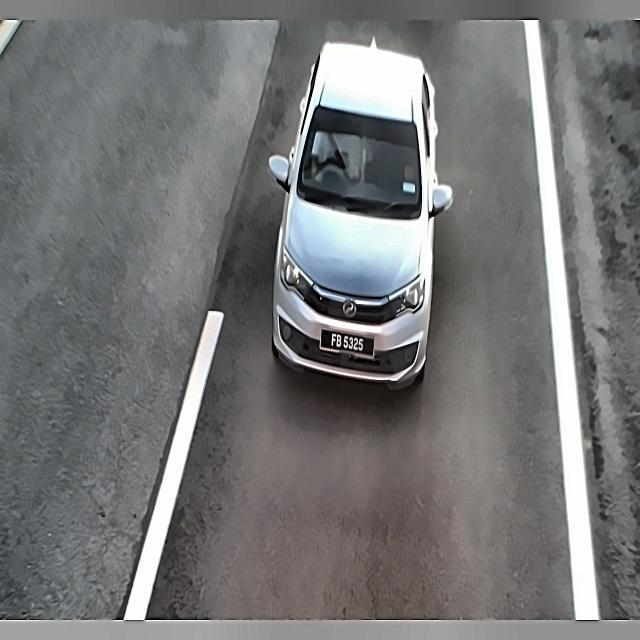car: (323, 322, 376, 364)
